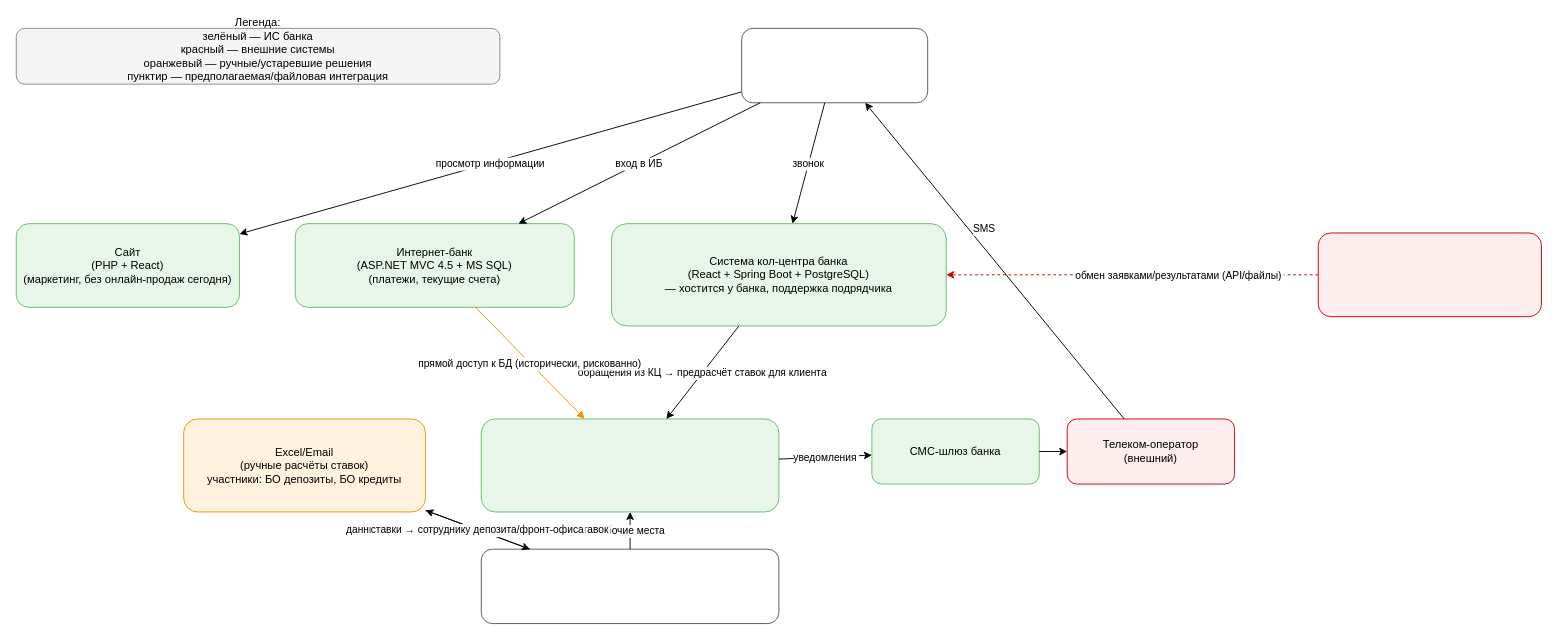
Some shapes in this 1558 by 640 pixel diagram are drawn without their labels. The centre of each missing label's shape, as x and y in pixels:
АБС (Delphi‑клиент, Oracle/PL‑SQL) — основная учётная система: point (629, 465)
Клиент (браузер / телефон): point (834, 65)
Клиент АБС (Delphi) (участники: фронт‑офис, БО депозиты, БО кредиты): point (629, 586)
Партнёрский кол‑центр (внешняя система): point (1429, 274)
